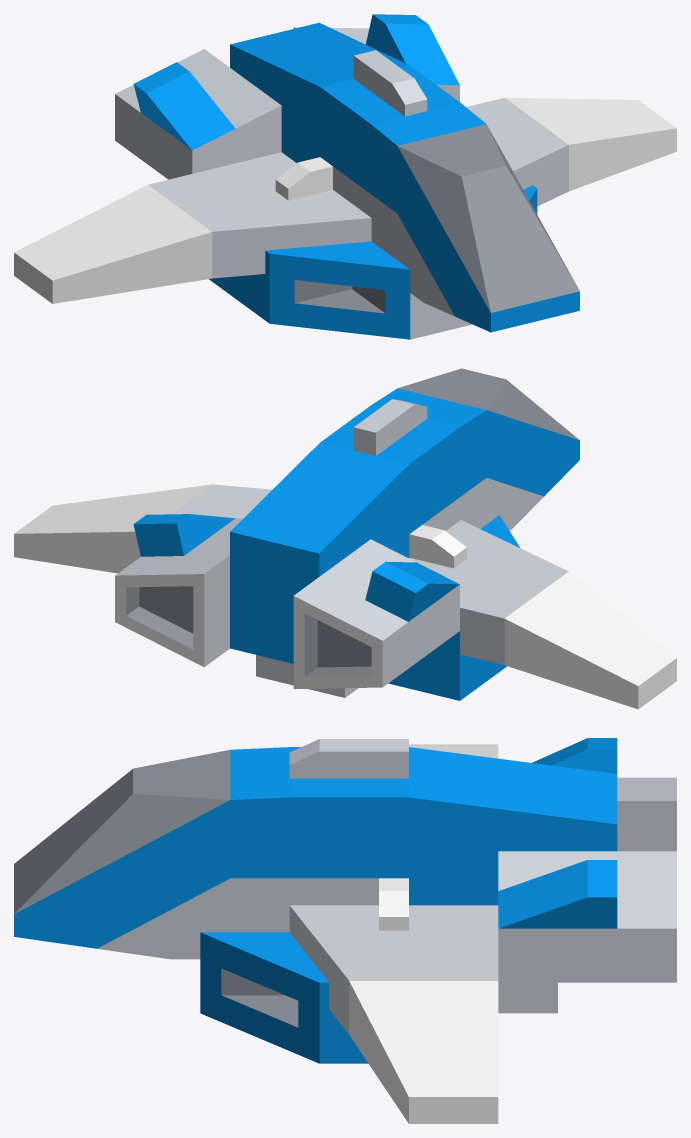
File: PlayerModel.fbx
3 views of the same model, one above another, from view 1: azimuth 30°, elevation 25°; view 2: azimuth 150°, elevation 25°; view 3: azimuth 270°, elevation 25° (orthographic). The views are drawn at different scales.
Parts seen in each view (by area): view 1: craft_speederD; view 2: craft_speederD; view 3: craft_speederD.
Part boxes in pixels (x1=…): craft_speederD: x1=14, y1=14, x2=676, y2=339; craft_speederD: x1=14, y1=368, x2=676, y2=709; craft_speederD: x1=14, y1=738, x2=676, y2=1123.
Bounding box in the file's own units: 280 × 90 × 223.
